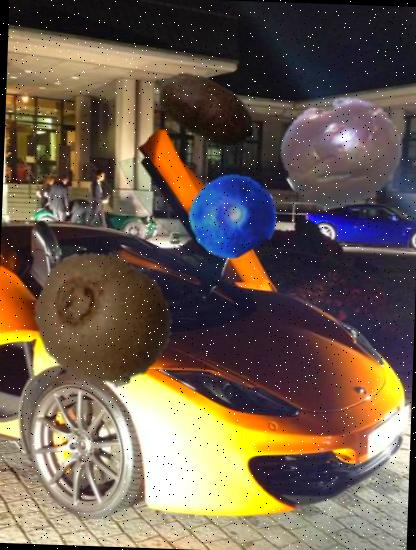Huckleberry: (187, 171, 278, 260)
Kiwi: (32, 245, 178, 391)
Nut: (146, 50, 261, 164)
Passion: (278, 88, 406, 216)
